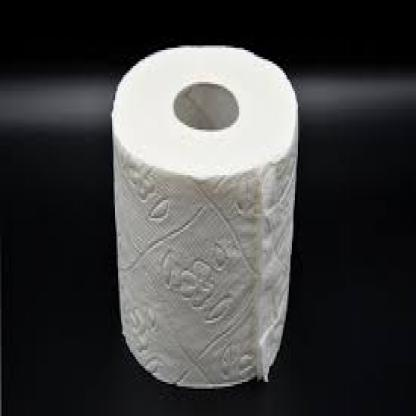tissue: (107, 48, 306, 392)
